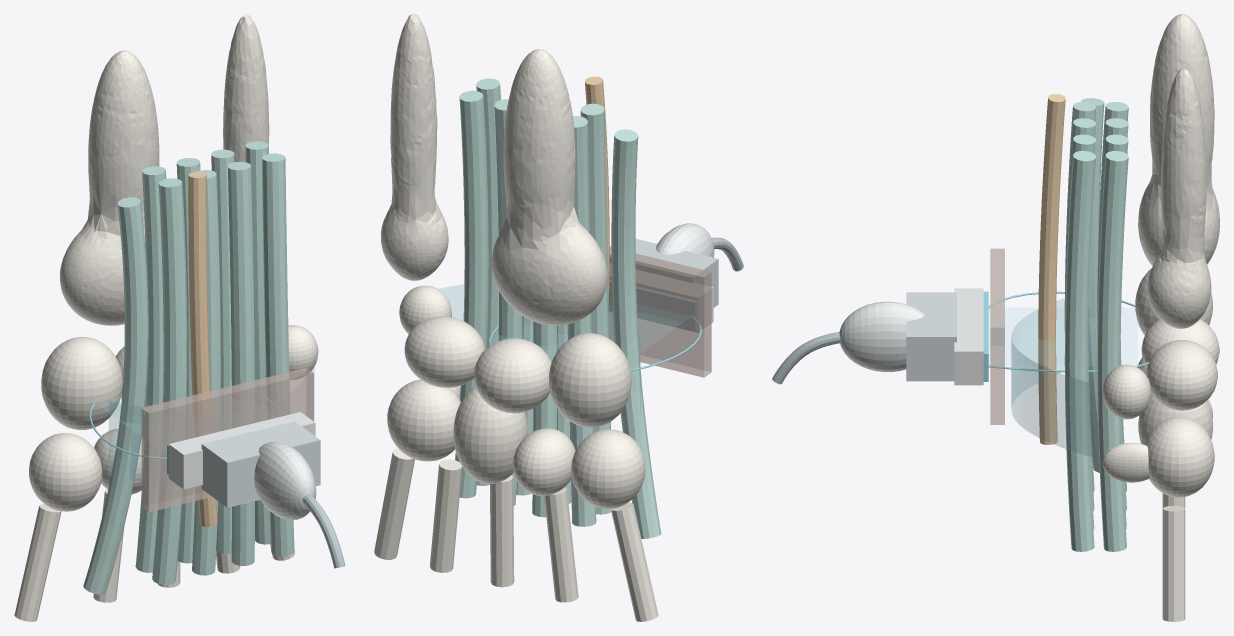
Rendered from wrist-short.glb.
3 views of the same model, side by side, from view 1: azimuth 30°, elevation 25°; view 2: azimuth 150°, elevation 25°; view 3: azimuth 270°, elevation 25° (orthographic). The views are drawn at different scales.
Visible parts, largest first — view 1: Distal radius, Local skin contact patch - surrounding skin omitted, FPL tendon, FDS tendon 1, FDS tendon 3, FDS tendon 4, FDP tendon 1, Scaphoid, Median nerve, Transducer body, Distal ulna, Trapezium (+12 smaller); view 2: Distal radius, Distal ulna, FPL tendon, Local skin contact patch - surrounding skin omitted, FDP tendon 4, Scaphoid, Capitate, Trapezium, Lunate, Hamate, Triquetrum, FDS tendon 1 (+20 smaller); view 3: Distal ulna, FDS tendon 4, FDP tendon 4, Distal radius, Flexor retinaculum - transparent teaching roof, Median nerve, Hamate, Transducer body, Transducer grip, Triquetrum, Illustrative imaging plane - not a simulated sonogram, FPL tendon (+15 smaller).
Boxes of the visible parts, x1,y1,x2,y2 form: Distal radius: [59, 50, 159, 325]; Local skin contact patch - surrounding skin omitted: [141, 367, 313, 512]; FPL tendon: [83, 197, 148, 594]; FDS tendon 1: [152, 178, 187, 584]; FDS tendon 3: [227, 161, 254, 565]; FDS tendon 4: [262, 153, 294, 556]; FDP tendon 1: [135, 166, 166, 572]; Scaphoid: [41, 337, 122, 429]; Median nerve: [188, 172, 217, 526]; Transducer body: [201, 421, 320, 507]; Distal ulna: [223, 14, 269, 162]; Trapezium: [29, 433, 102, 511]; Distal radius: [491, 49, 607, 325]; Distal ulna: [380, 14, 448, 280]; FPL tendon: [611, 129, 661, 538]; Local skin contact patch - surrounding skin omitted: [608, 247, 711, 377]; FDP tendon 4: [455, 90, 488, 498]; Scaphoid: [549, 333, 631, 427]; Capitate: [453, 386, 527, 483]; Trapezium: [571, 429, 645, 508]; Lunate: [474, 338, 551, 413]; Hamate: [387, 379, 460, 461]; Triquetrum: [404, 316, 485, 387]; FDS tendon 1: [580, 103, 611, 514]; Distal ulna: [1147, 68, 1211, 328]; FDS tendon 4: [1064, 151, 1096, 551]; FDP tendon 4: [1097, 151, 1128, 551]; Distal radius: [1138, 14, 1219, 266]; Flexor retinaculum - transparent teaching roof: [1011, 298, 1093, 457]; Median nerve: [1038, 94, 1065, 444]; Hamate: [1145, 417, 1214, 497]; Transducer body: [906, 292, 956, 381]; Transducer grip: [839, 301, 924, 371]; Triquetrum: [1146, 340, 1217, 410]; Illustrative imaging plane - not a simulated sonogram: [989, 308, 1137, 365]; FPL tendon: [1081, 98, 1104, 472].
Size of the model in its own units: 1.94 by 3.65 by 2.75.
